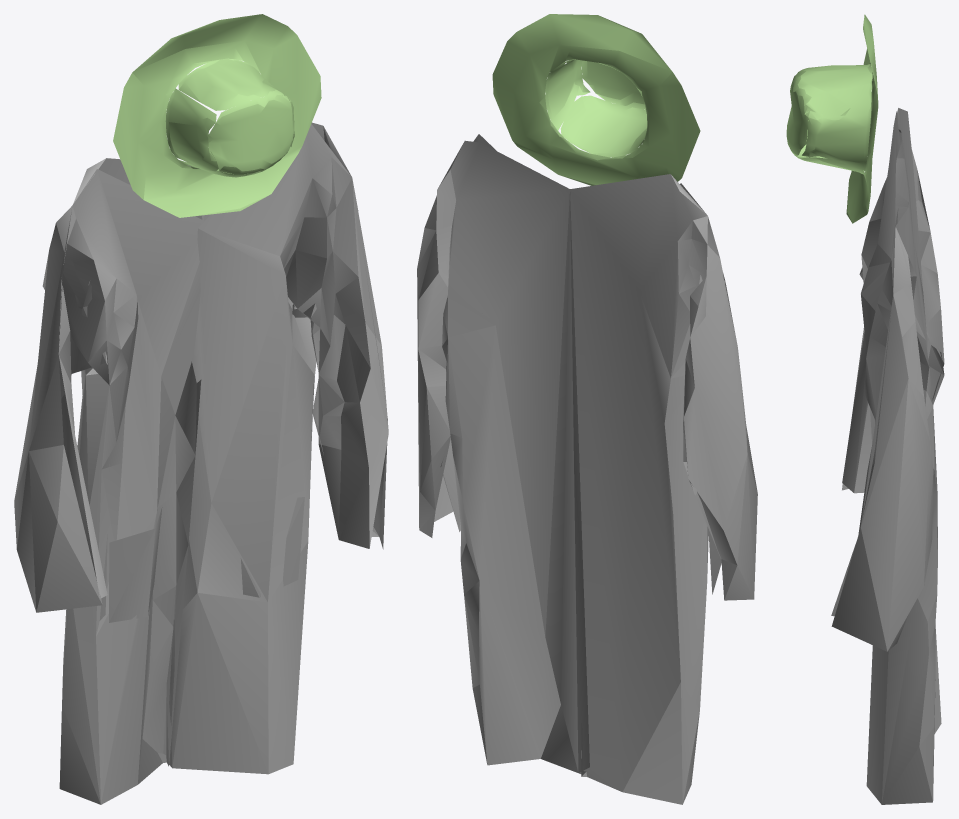
Rendered from coat.fbx.
3 views of the same model, side by side, from view 1: azimuth 30°, elevation 25°; view 2: azimuth 150°, elevation 25°; view 3: azimuth 270°, elevation 25° (orthographic). The views are drawn at different scales.
Visible parts, largest first — view 1: Object_32, Object_46; view 2: Object_32, Object_46; view 3: Object_32, Object_46.
Boxes of the visible parts, x1,y1,x2,y2 form: Object_32: (14, 122, 388, 804); Object_46: (113, 14, 321, 217); Object_32: (417, 134, 757, 804); Object_46: (492, 14, 700, 185); Object_32: (831, 108, 944, 804); Object_46: (786, 14, 878, 223).
Size of the model in its own units: 0.3803 by 0.8096 by 0.1572.
